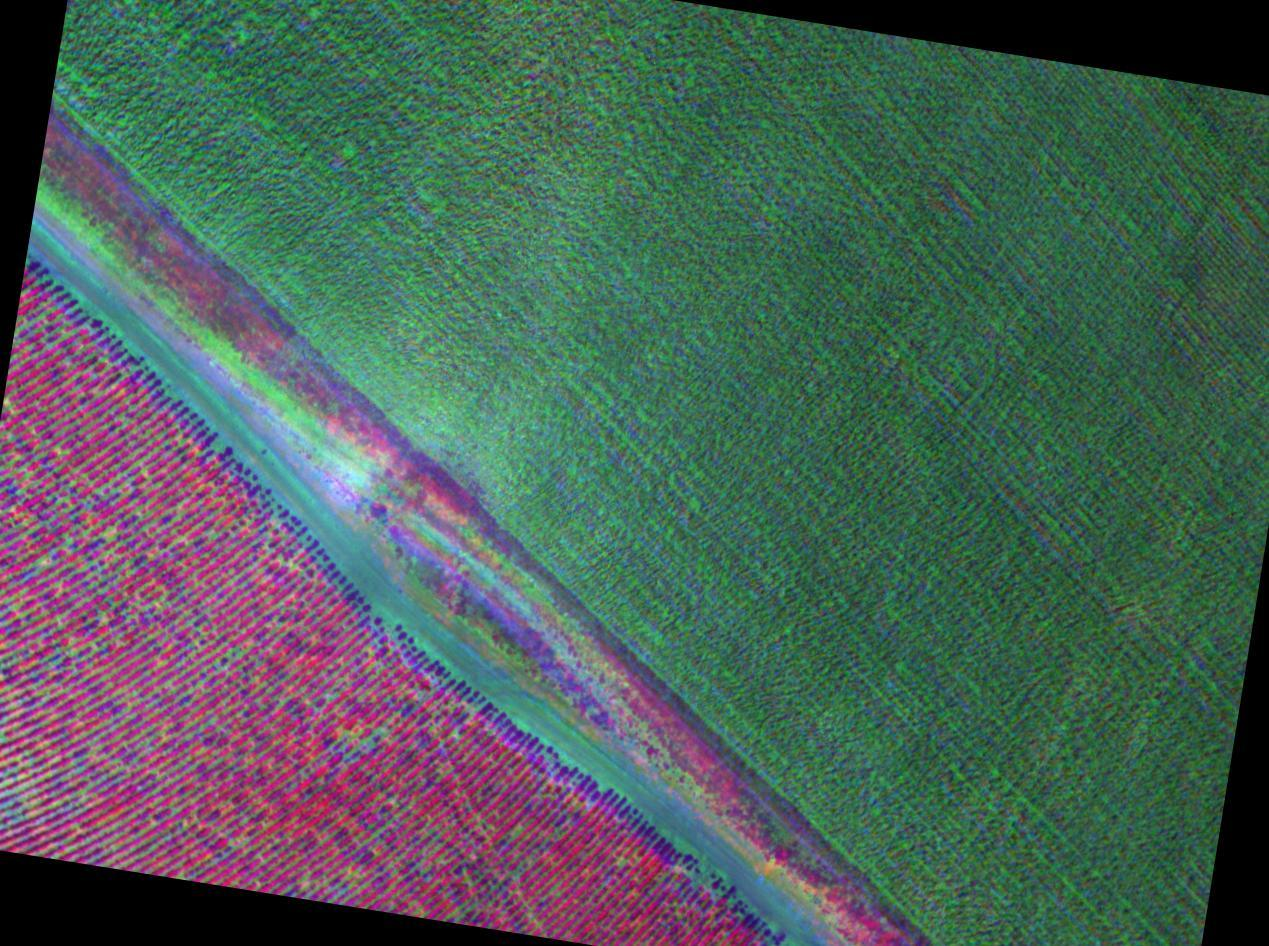dc: (0, 713, 57, 787), (2, 400, 55, 465), (196, 641, 265, 690), (83, 499, 137, 554), (589, 844, 643, 895), (330, 718, 391, 753)
